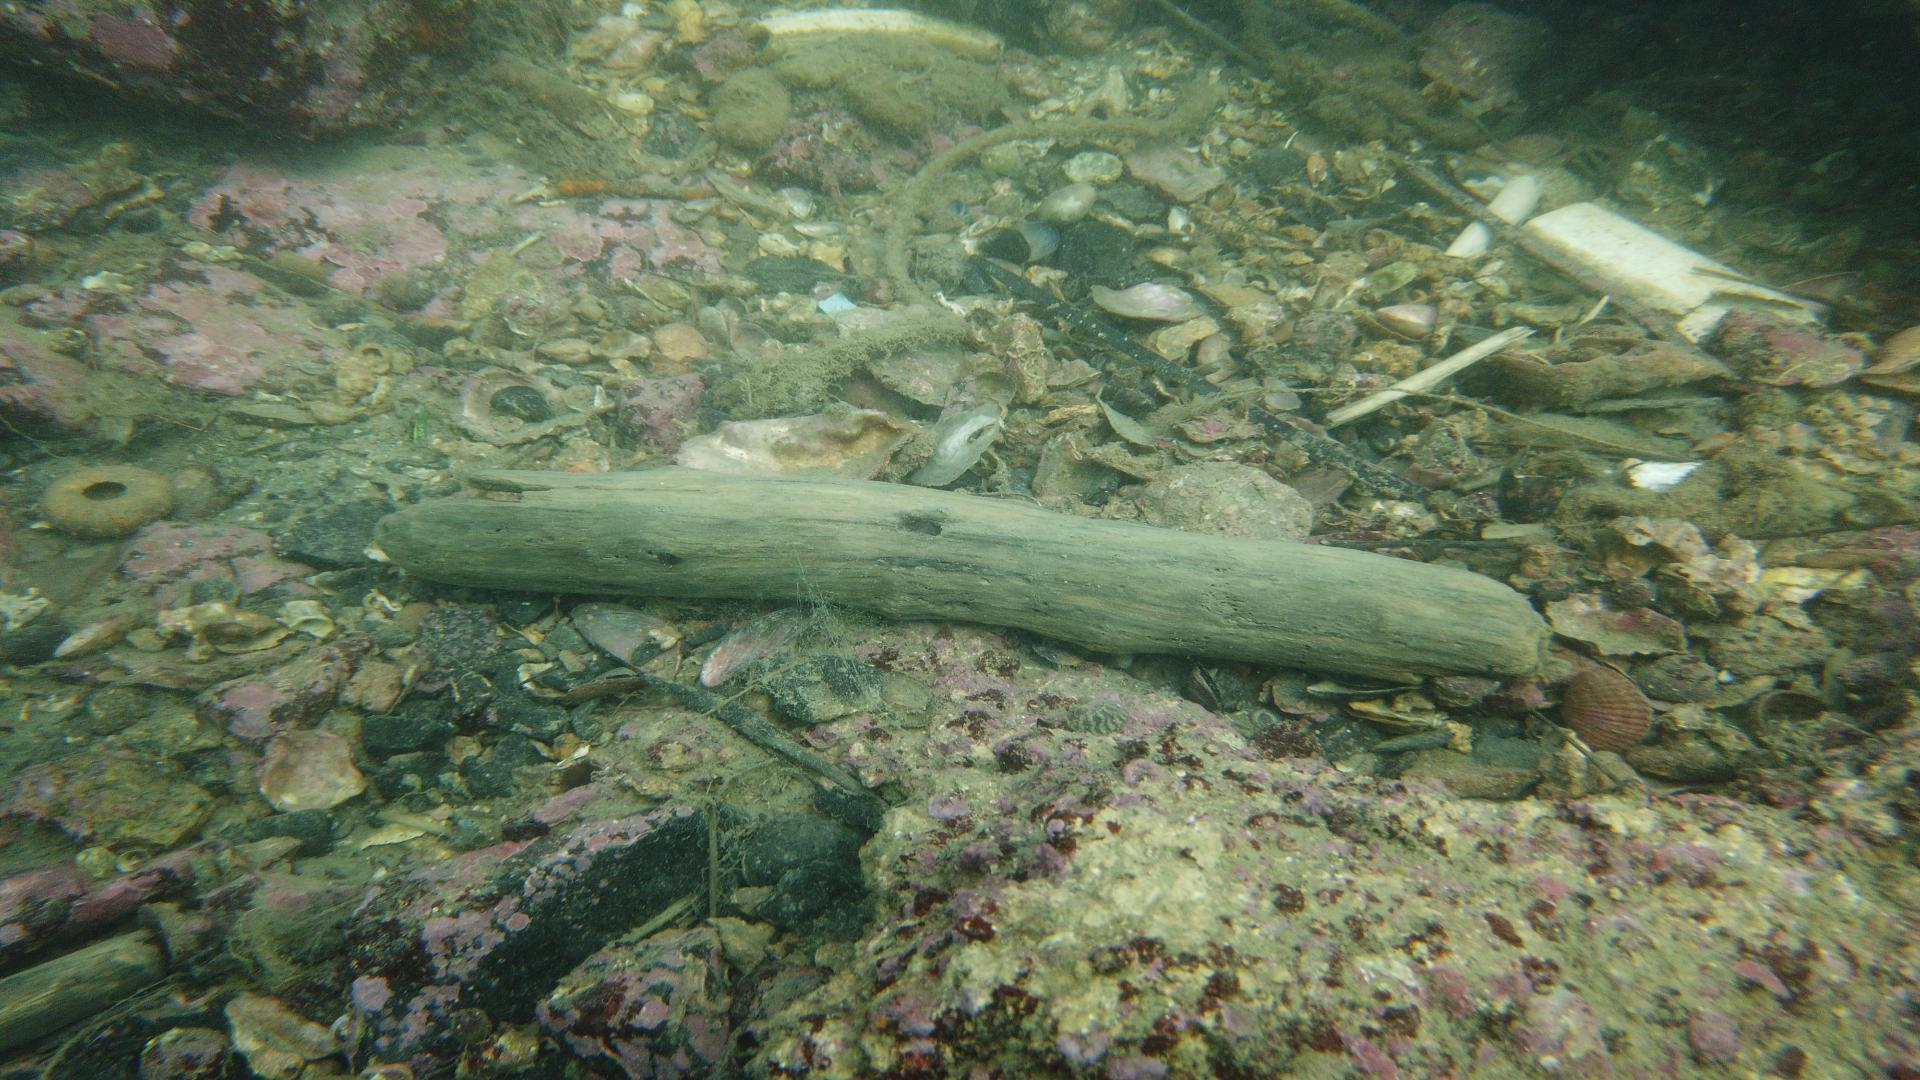rope: (881, 80, 1224, 313)
wood: (369, 467, 1543, 686), (0, 927, 160, 1054)
